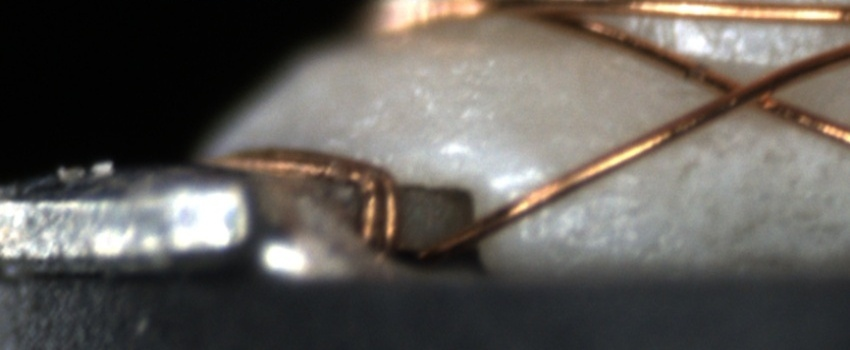CL: (699, 62, 797, 120)
DL: (493, 159, 642, 216)
TE: (206, 144, 405, 258)
